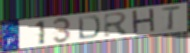1: (34, 20, 47, 46)
3: (52, 16, 73, 45)
D: (77, 15, 102, 41)
H: (131, 7, 158, 36)
R: (103, 11, 131, 38)
T: (160, 5, 183, 32)
